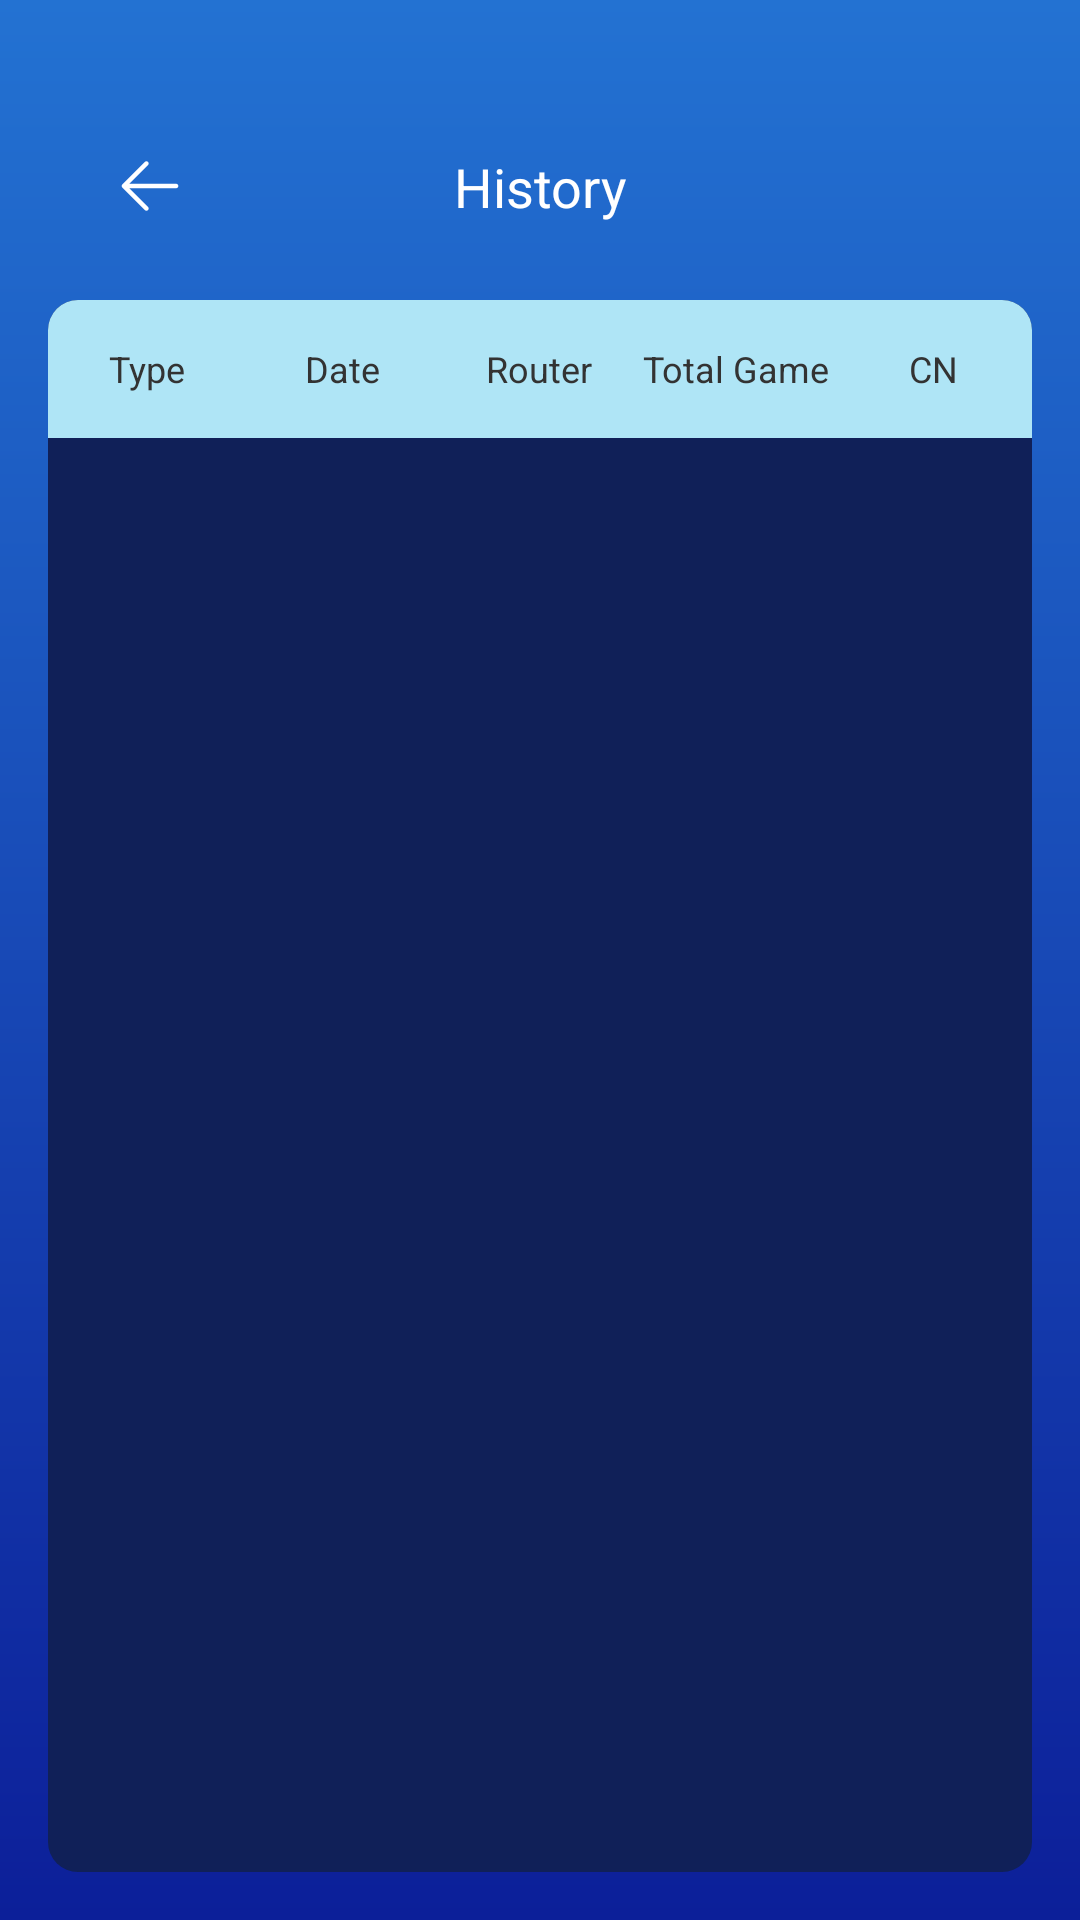

Icons on this 1080 x 1920 Android screen, each with the point to tap as point (x, y):
back: point (150, 186)
